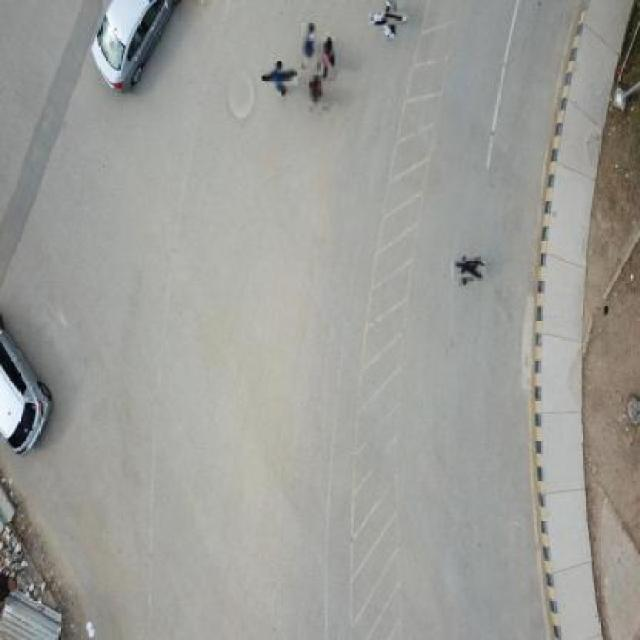Person: (264, 63, 294, 92), (300, 22, 318, 70), (455, 257, 483, 285), (376, 5, 402, 33), (309, 75, 326, 113), (320, 37, 335, 80)
